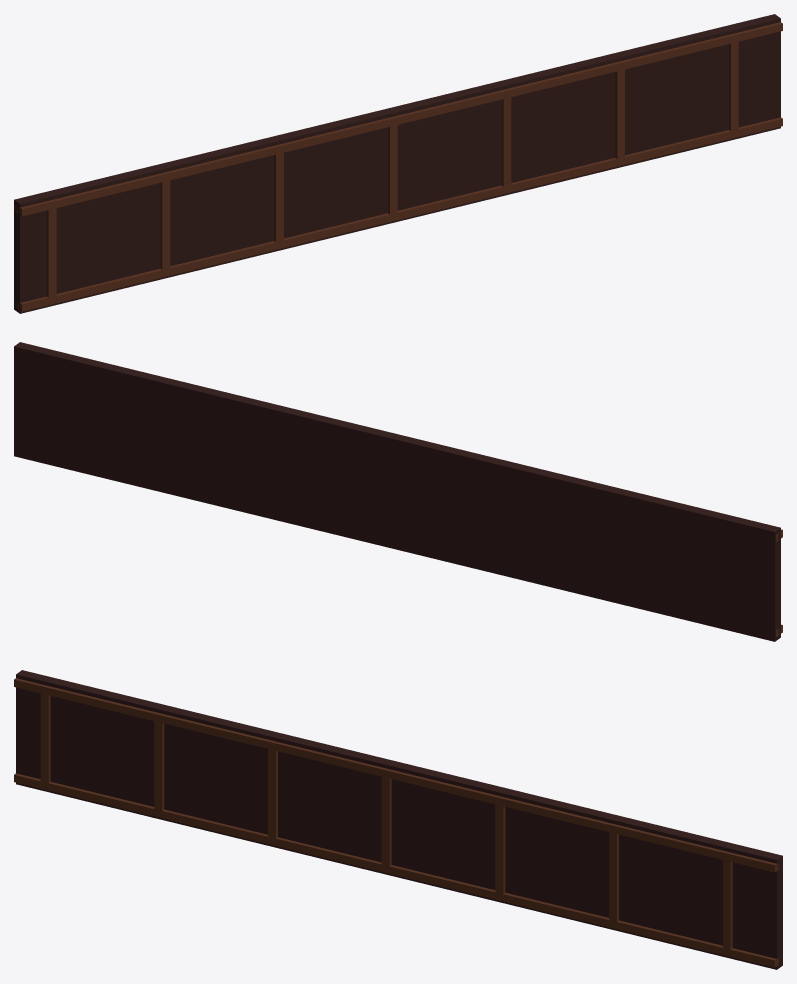
The model's file is wall_panels.obj.
3 views of the same model, one above another, from view 1: azimuth 30°, elevation 25°; view 2: azimuth 150°, elevation 25°; view 3: azimuth 330°, elevation 25° (orthographic).
Size of the model in its own units: 8.7 by 1.2 by 0.16.
